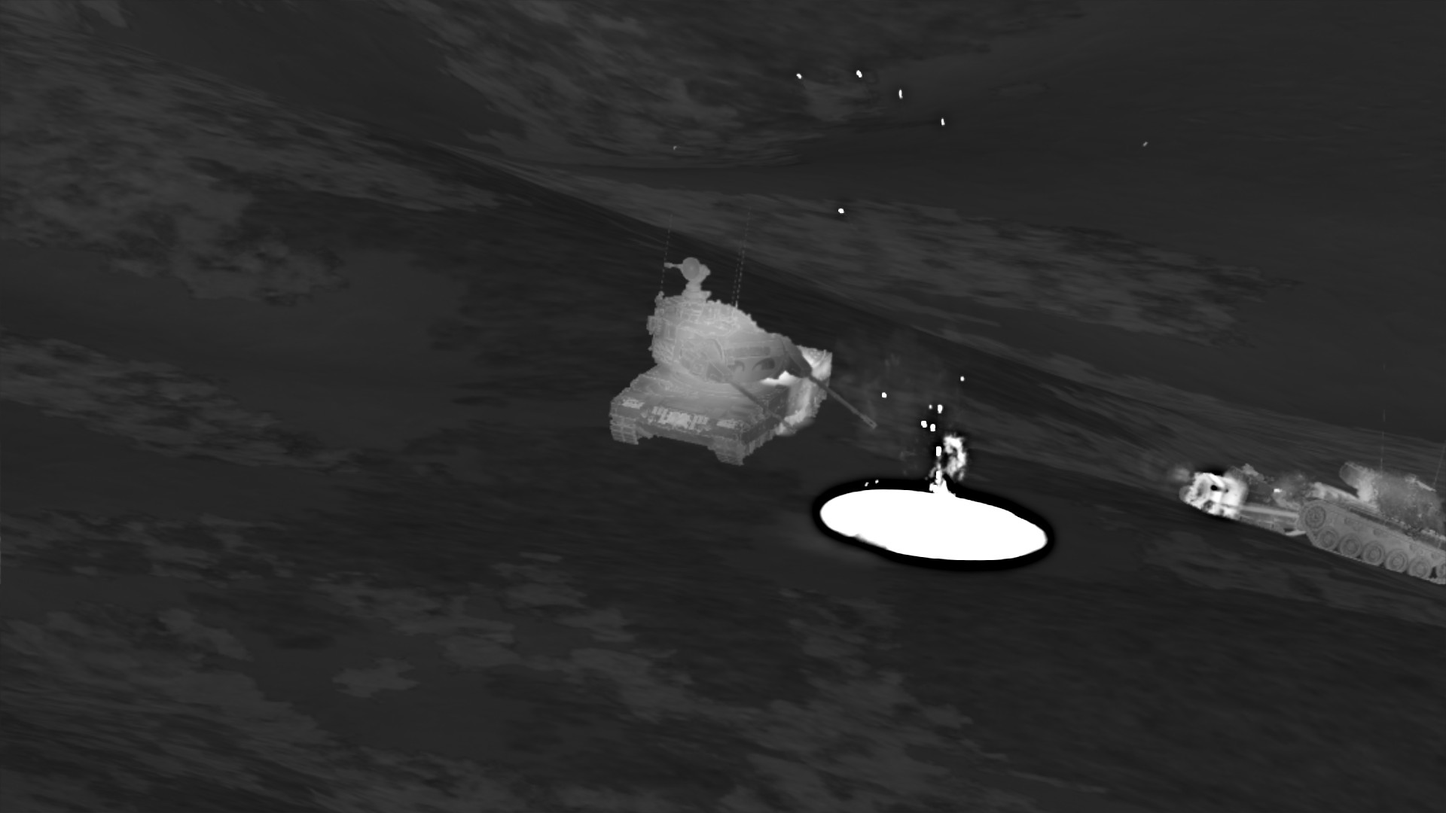spaa_gepard: (608, 258, 877, 465)
